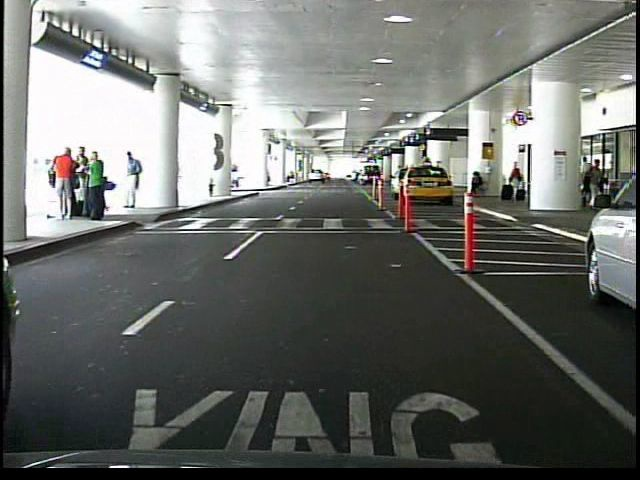person: (55, 143, 79, 220), (87, 151, 108, 224), (122, 151, 144, 212), (584, 153, 607, 210), (78, 145, 92, 211), (508, 160, 524, 204), (467, 170, 485, 199)
